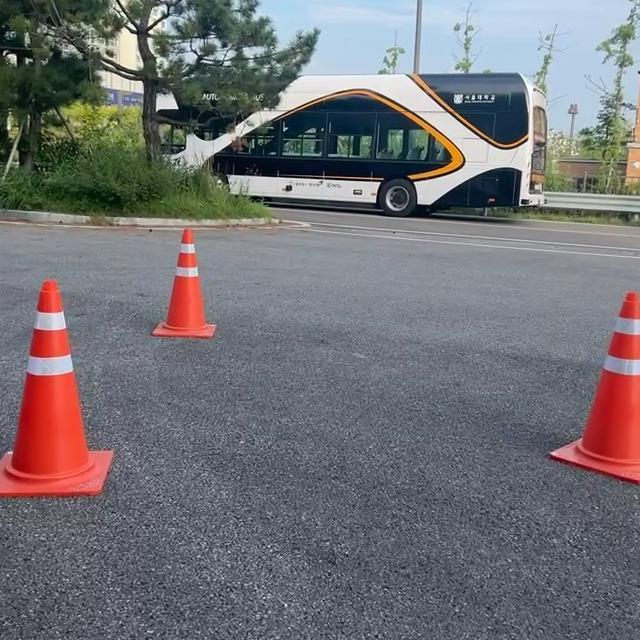fallen_object: (0, 242, 172, 537), (529, 263, 640, 530), (112, 212, 251, 345)
